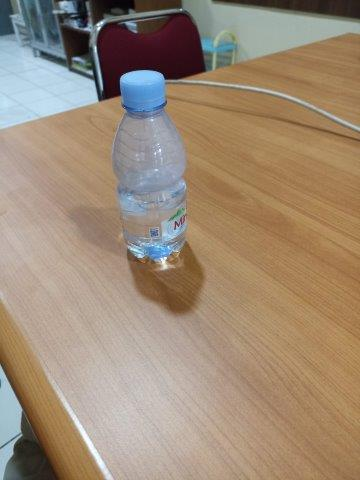botolplastik: (112, 70, 187, 261)
